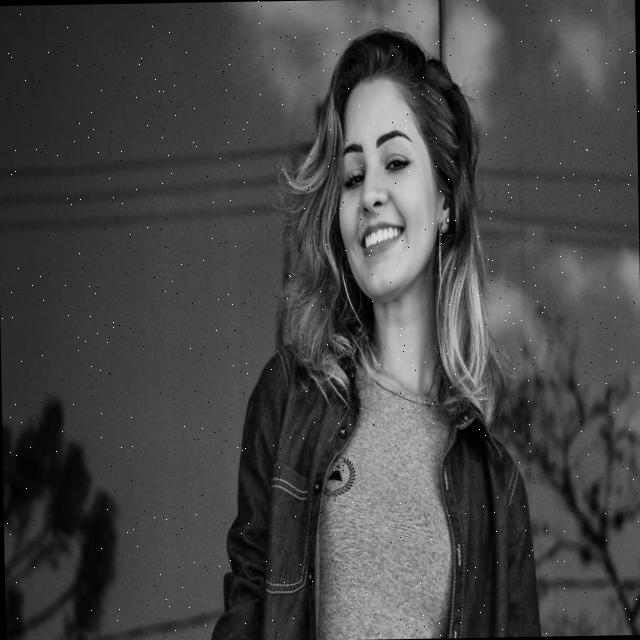Happiness: (330, 72, 448, 304)
